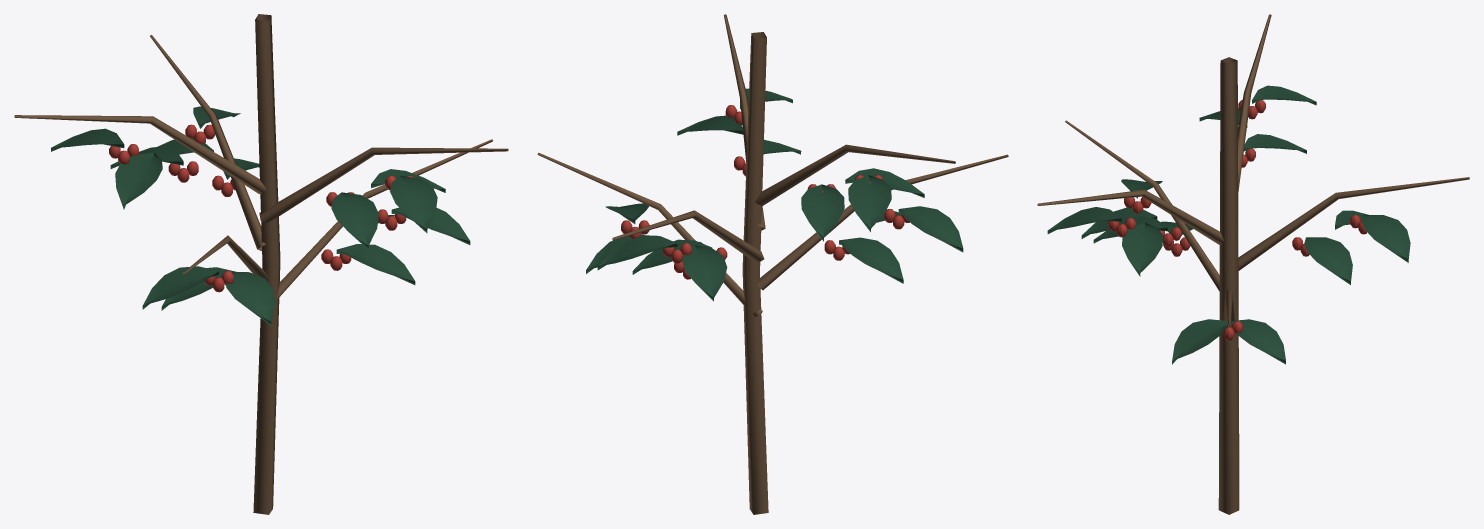
Rendered from cafe_robusta.glb.
The picture shows the model from 3 angles, left to right: view 1: azimuth 30°, elevation 25°; view 2: azimuth 150°, elevation 25°; view 3: azimuth 270°, elevation 25°; orthographic projection. The views are drawn at different scales.
Visible parts, largest first — view 1: cafe_robusta; view 2: cafe_robusta; view 3: cafe_robusta.
Boxes of the visible parts, box(x1,y1,x2,y2) form: cafe_robusta: box(14, 14, 508, 514); cafe_robusta: box(537, 14, 1008, 514); cafe_robusta: box(1037, 14, 1469, 514).
Bounding box in the file's own units: 1.39 × 1.44 × 1.25.
